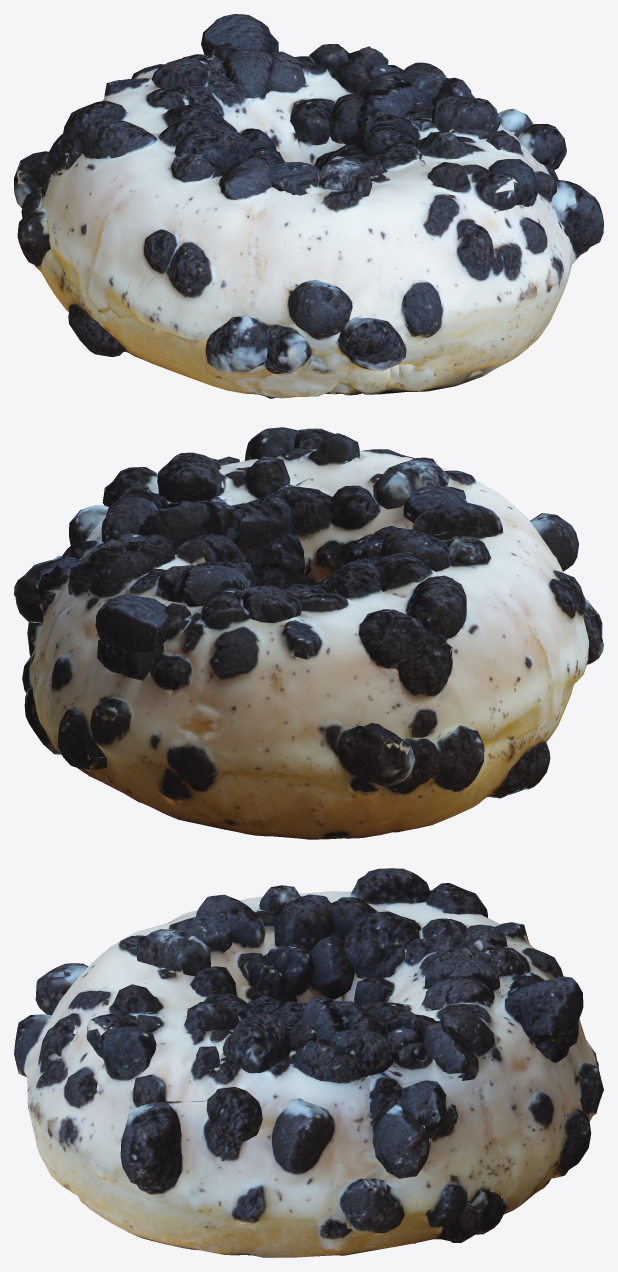
The picture shows the model from 3 angles, top to bottom: view 1: azimuth 30°, elevation 25°; view 2: azimuth 150°, elevation 25°; view 3: azimuth 270°, elevation 25°; orthographic projection. The views are drawn at different scales.
Parts seen in each view (by area): view 1: bake_0; view 2: bake_0; view 3: bake_0.
Part boxes in pixels (bbox=[...]): bake_0: bbox=[14, 14, 603, 398]; bake_0: bbox=[14, 427, 603, 839]; bake_0: bbox=[14, 868, 603, 1257].
Size of the model in its own units: 12.61 by 5.64 by 13.7.
Materials: 1 (1 with a texture image).
